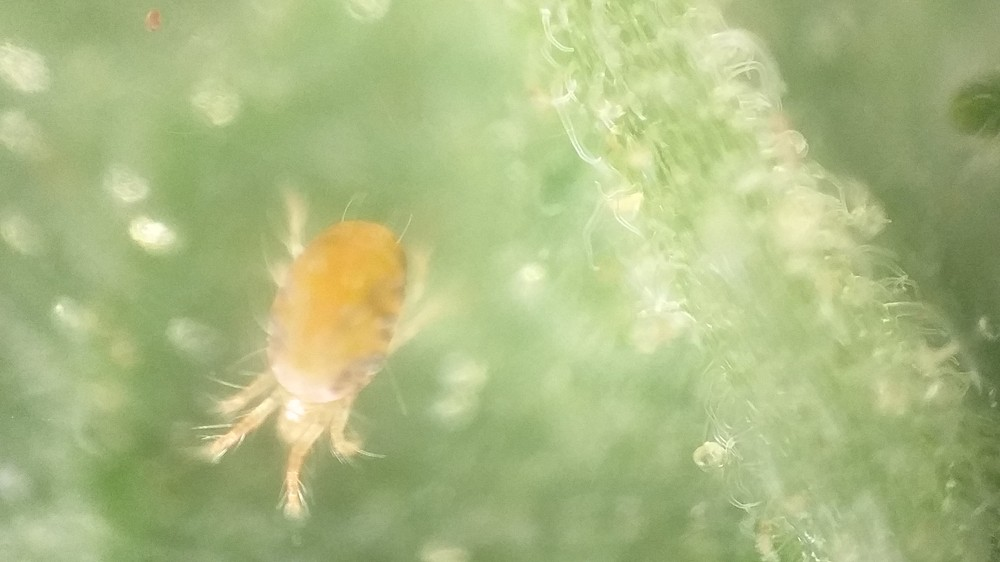Aracnido Rojo: (179, 168, 441, 520)
